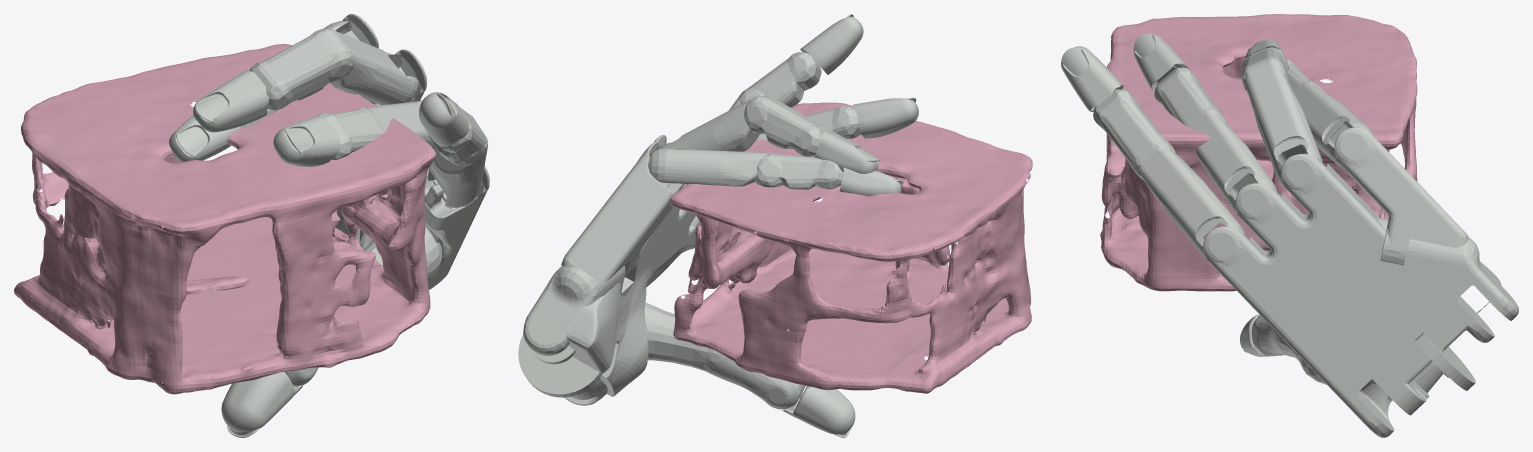
The picture shows the model from 3 angles, left to right: view 1: azimuth 30°, elevation 25°; view 2: azimuth 150°, elevation 25°; view 3: azimuth 270°, elevation 25°; orthographic projection. The views are drawn at different scales.
Parts seen in each view (by area): view 1: world, hand_isaac_q; view 2: world, hand_isaac_q; view 3: hand_isaac_q, world.
Part boxes in pixels (x1,y1,x2,y2): world: (14,44,435,394); hand_isaac_q: (168,14,489,437); world: (669,102,1032,393); hand_isaac_q: (518,14,918,437); hand_isaac_q: (1061,33,1518,437); world: (1100,14,1417,291).
Size of the model in its own units: 0.1892 by 0.1591 by 0.1886.
